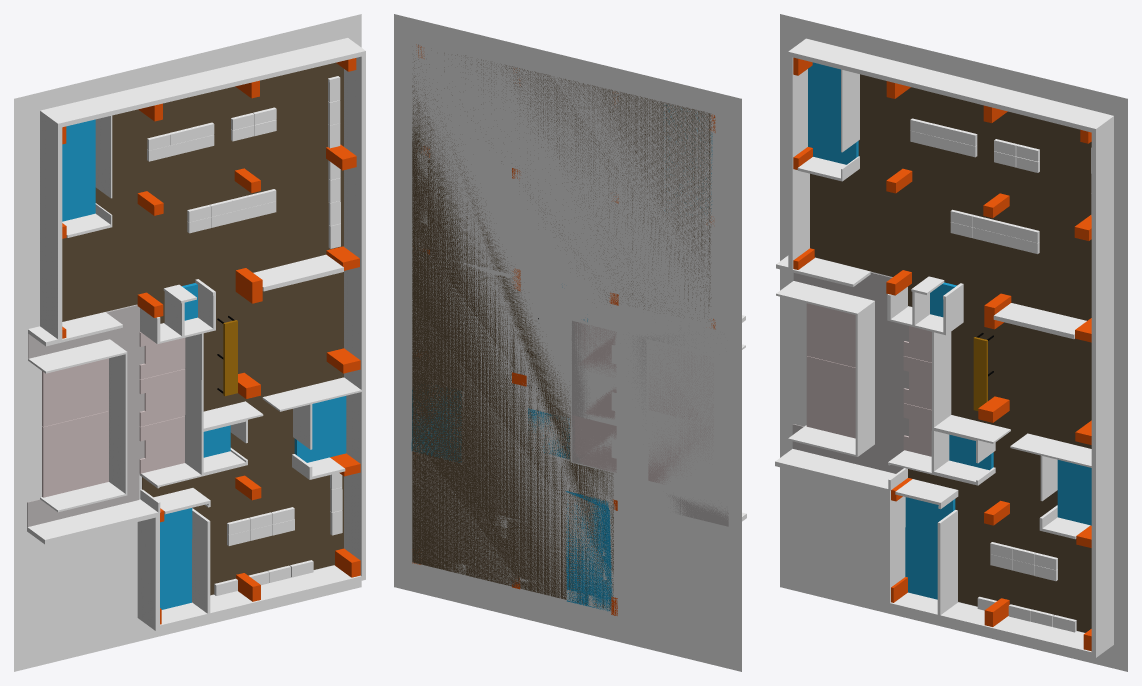
The model's file is office.obj.
3 views of the same model, side by side, from view 1: azimuth 30°, elevation 25°; view 2: azimuth 150°, elevation 25°; view 3: azimuth 330°, elevation 25° (orthographic).
Visible parts, largest first — view 1: 56679beb9003b87e9e000002, floorplan, 566792909003b87e9e000000, 5667769e9003b815b8000005, 56684c309003b82e6d000000, 5667718f9003b80025000000, 566748fdf1d0623af6000010, 566748e2f1d0623af600000f, 566745d9f1d0621225000000, 5667864b9003b83a64000003, 56674b7cf1d0623af600001a, 5667849b9003b83a64000000 (+18 smaller); view 2: floorplan, 56679beb9003b87e9e000002, 5667864b9003b83a64000003, 566792909003b87e9e000000, 56684c309003b82e6d000000, 5668491a9003b818f2000001, 566748fdf1d0623af6000010, 566848569003b8547100000a, 5667849b9003b83a64000000, 566748e2f1d0623af600000f, 5668490d9003b818f2000000; view 3: 56679beb9003b87e9e000002, floorplan, 566792909003b87e9e000000, 56684c309003b82e6d000000, 5667769e9003b815b8000005, 5667718f9003b80025000000, 566748fdf1d0623af6000010, 566745d9f1d0621225000000, 5667864b9003b83a64000003, 56674b7cf1d0623af600001a, 566748e2f1d0623af600000f, 5667849b9003b83a64000000 (+17 smaller).
Boxes of the visible parts, box(x1,y1,x2,y2) form: 56679beb9003b87e9e000002: box(62, 62, 343, 595); floorplan: box(14, 14, 361, 671); 566792909003b87e9e000000: box(27, 38, 365, 630); 5667769e9003b815b8000005: box(28, 339, 127, 512); 56684c309003b82e6d000000: box(27, 305, 144, 526); 5667718f9003b80025000000: box(139, 333, 247, 488); 566748fdf1d0623af6000010: box(42, 411, 108, 497); 566748e2f1d0623af600000f: box(42, 358, 108, 426); 566745d9f1d0621225000000: box(62, 119, 95, 221); 5667864b9003b83a64000003: box(160, 508, 192, 609); 56674b7cf1d0623af600001a: box(140, 279, 215, 343); 5667849b9003b83a64000000: box(294, 396, 346, 462); floorplan: box(394, 14, 741, 671); 56679beb9003b87e9e000002: box(412, 44, 711, 610); 5667864b9003b83a64000003: box(565, 491, 612, 611); 566792909003b87e9e000000: box(408, 39, 746, 617); 56684c309003b82e6d000000: box(571, 320, 728, 526); 5668491a9003b818f2000001: box(572, 415, 616, 472); 566748fdf1d0623af6000010: box(648, 417, 713, 484); 566848569003b8547100000a: box(573, 322, 616, 376); 5667849b9003b83a64000000: box(411, 387, 461, 462); 566748e2f1d0623af600000f: box(649, 346, 713, 425); 5668490d9003b818f2000000: box(584, 387, 616, 419); 56679beb9003b87e9e000002: box(810, 74, 1091, 632); floorplan: box(780, 14, 1127, 671); 566792909003b87e9e000000: box(775, 38, 1113, 657); 56684c309003b82e6d000000: box(792, 272, 908, 473); 5667769e9003b815b8000005: box(776, 281, 874, 456); 5667718f9003b80025000000: box(888, 332, 995, 485); 566748fdf1d0623af6000010: box(806, 356, 855, 438); 566745d9f1d0621225000000: box(808, 62, 858, 164); 5667864b9003b83a64000003: box(905, 497, 955, 599); 56674b7cf1d0623af600001a: box(887, 276, 963, 335); 566748e2f1d0623af600000f: box(806, 303, 855, 367); 5667849b9003b83a64000000: box(1057, 460, 1091, 525).
Bounding box in the file's own units: 635 × 1000 × 56.98.
